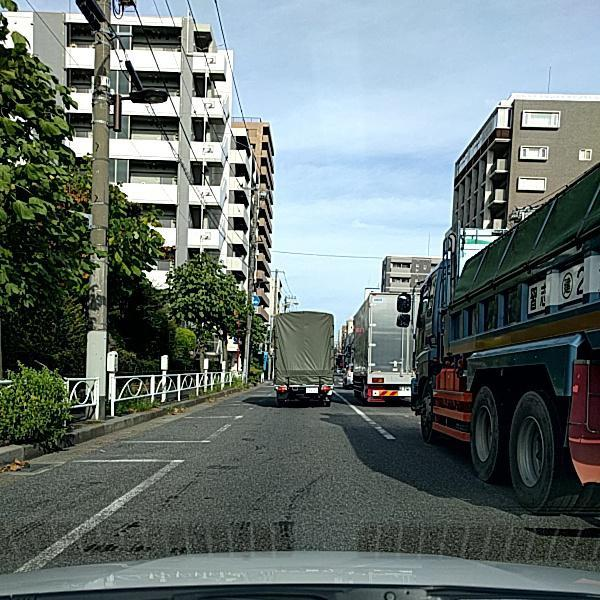D44: (14, 455, 186, 568), (117, 403, 249, 448)
